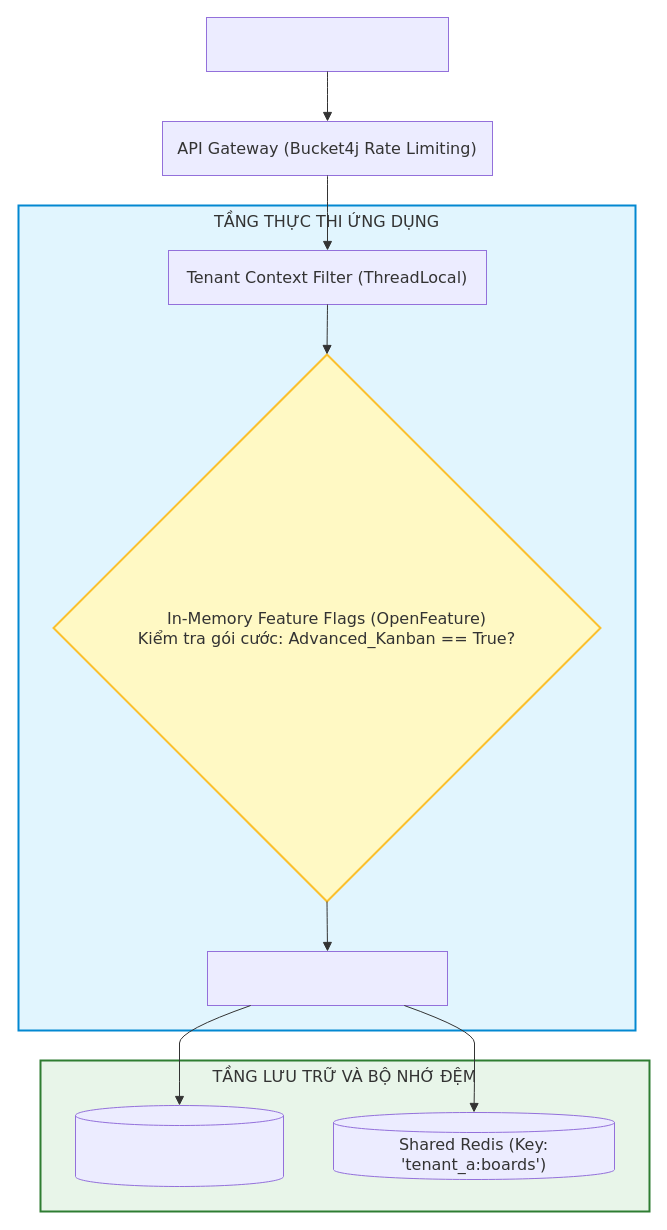
This 667x1230 diagram has some shape labels left out. The centre of each missing label's shape, as x and y in pixels:
Business Logic Processing: [327,978]
Client Request (Tenant A): [327,44]
Shared PostgreSQL (Ép buộc RLS + SET LOCAL): [179,1145]
